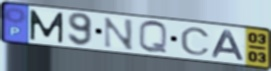9: (66, 12, 94, 49)
A: (211, 29, 247, 62)
C: (179, 26, 212, 57)
M: (28, 9, 65, 45)
N: (102, 16, 136, 52)
Q: (137, 20, 170, 56)
